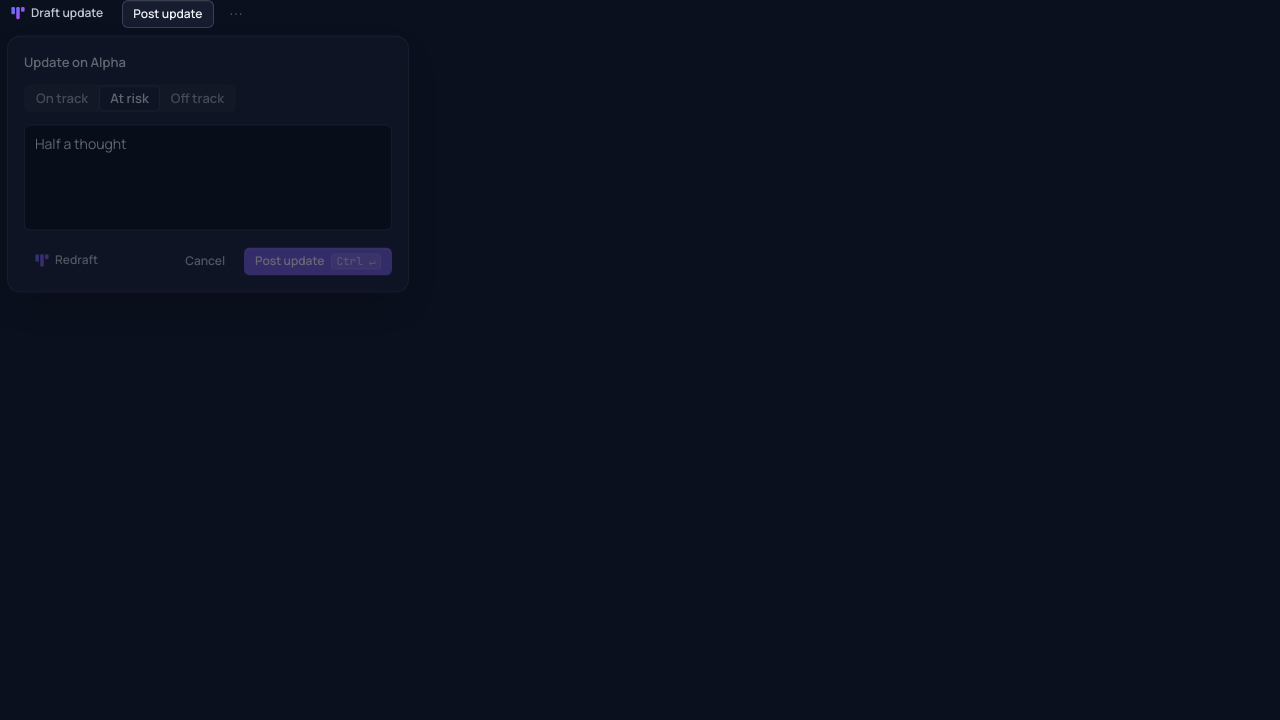
ProjectActions — posting an update › Draft update asks Kanbo's AI when it's on, and marks its words
Click the button "Draft update" at (57, 14), box [0,0,114,28]
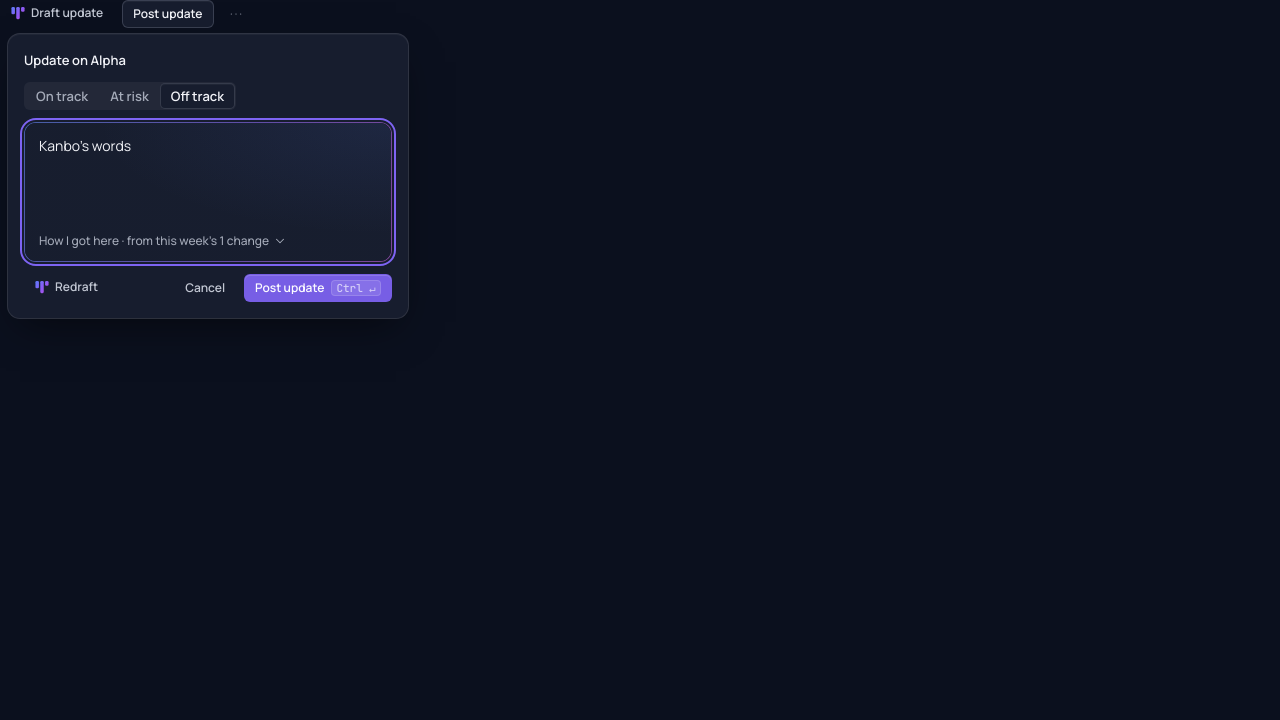
expect the text box with placeholder "What's the latest? Wins, risks, next steps…" holds "Kanbo's words": met, box [39,135,377,225]
expect the text "How I got here · from this week's 1 change" is shown: met, box [39,233,269,249]
